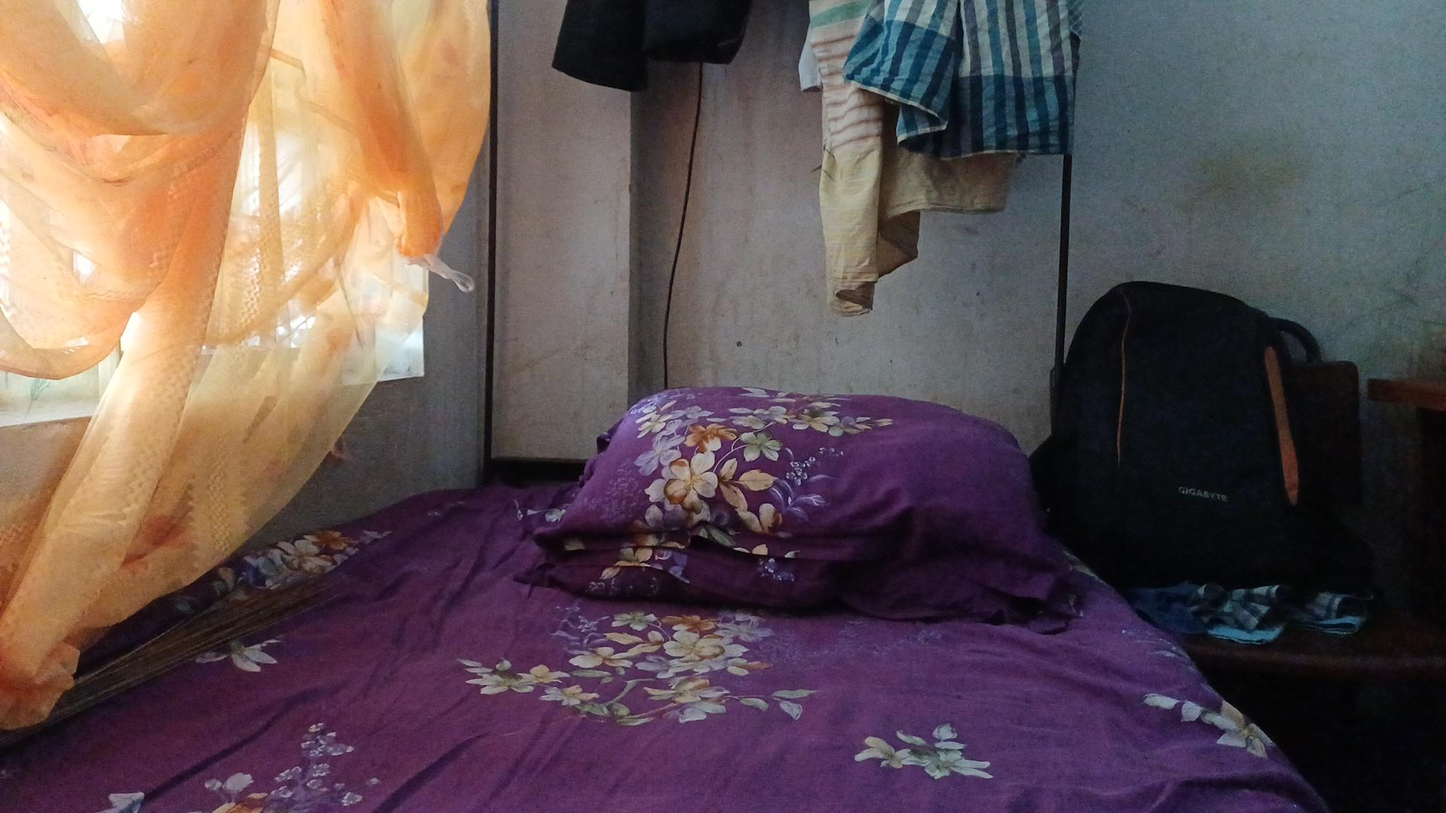Bag: (1028, 246, 1384, 595)
Pillow: (574, 365, 1033, 634)
